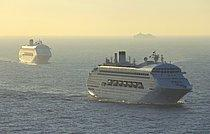Ship: (83, 48, 197, 110), (14, 36, 57, 66)
